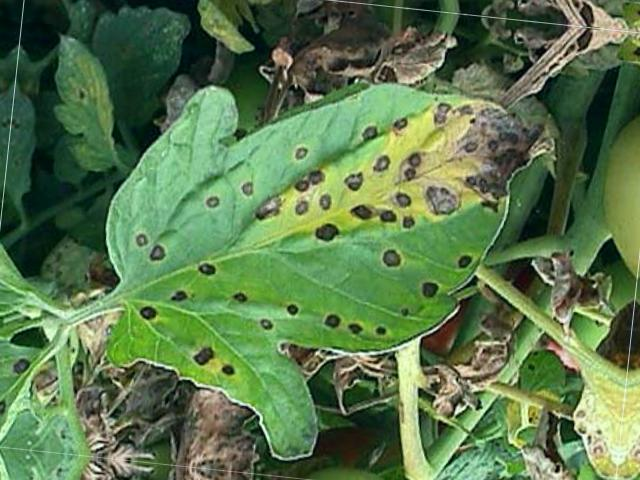Tomato leaf bacterial spot: (68, 41, 575, 480)
